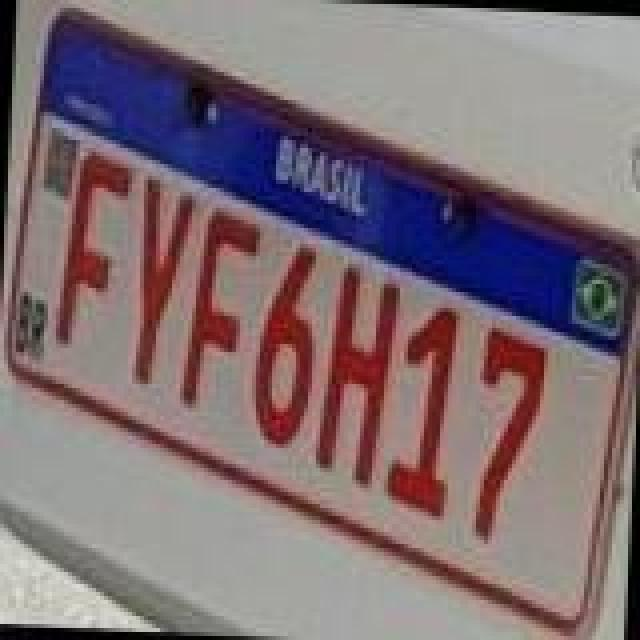1: (380, 304, 460, 520)
6: (246, 238, 322, 450)
7: (472, 322, 552, 542)
F: (178, 206, 262, 410), (52, 148, 132, 348)
H: (310, 262, 402, 490)
Y: (130, 174, 198, 386)
